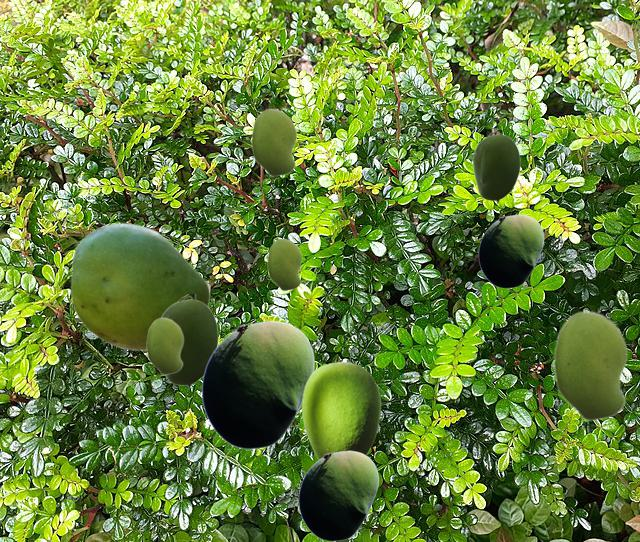green_mango: (70, 222, 209, 350), (201, 320, 314, 448), (553, 310, 627, 421), (301, 361, 380, 459), (298, 450, 378, 540), (161, 294, 217, 389), (478, 214, 543, 287), (472, 130, 519, 203), (251, 108, 296, 176), (146, 317, 183, 374), (267, 238, 301, 290)
